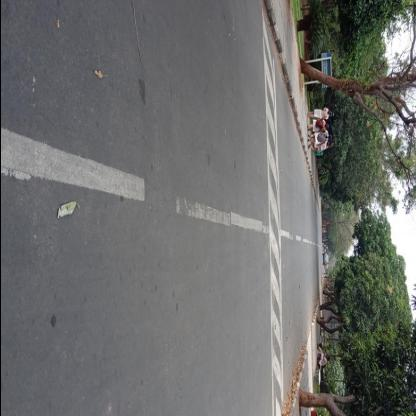speed-bumps: (256, 1, 288, 415)
